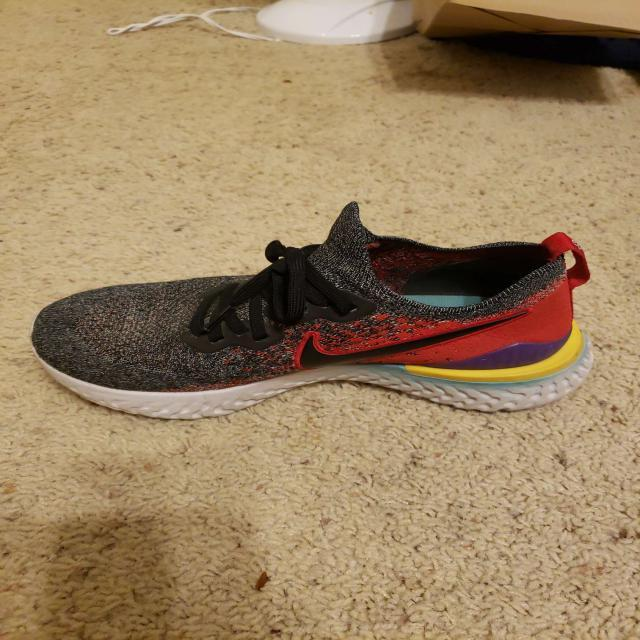shoes: (29, 198, 598, 422)
